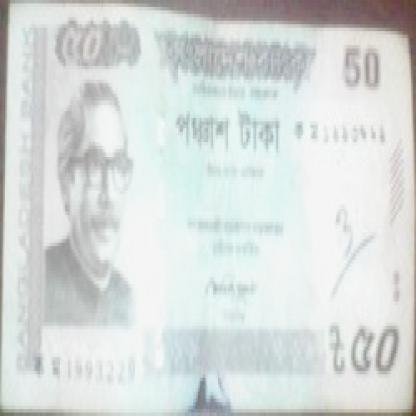Fifty taka: (348, 305, 402, 395), (53, 14, 103, 76)
